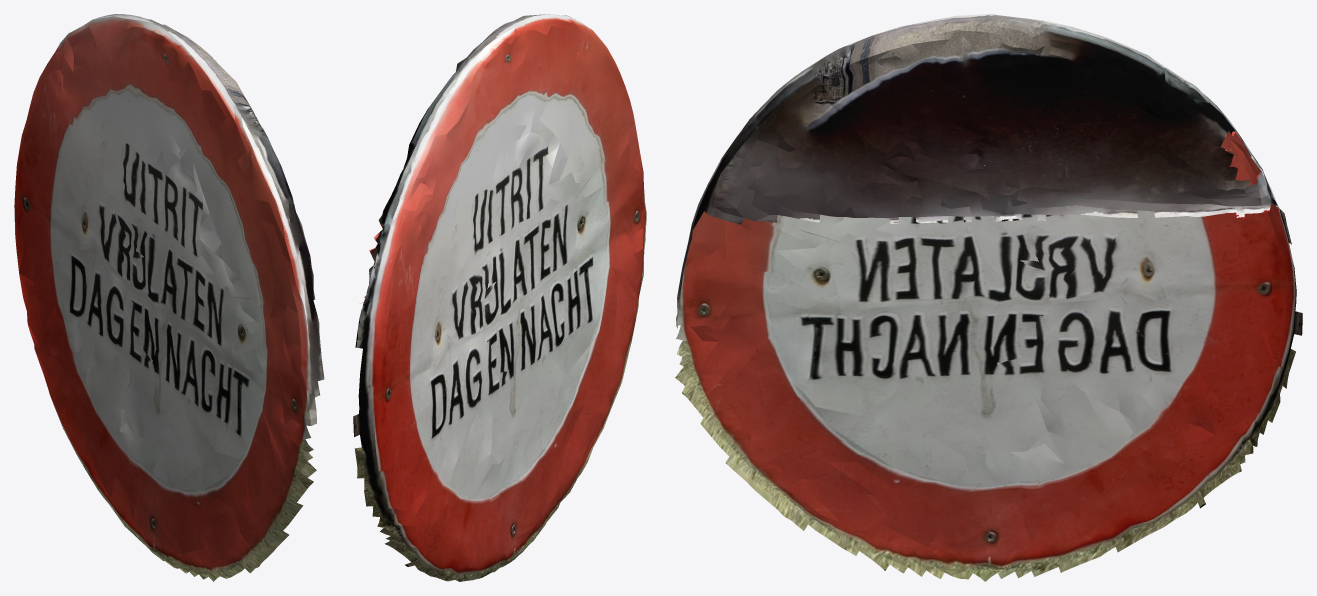
File: S024_ClearSign.glb
3 views of the same model, side by side, from view 1: azimuth 30°, elevation 25°; view 2: azimuth 150°, elevation 25°; view 3: azimuth 270°, elevation 25° (orthographic). The views are drawn at different scales.
Parts seen in each view (by area): view 1: S024_RETOPO; view 2: S024_RETOPO; view 3: S024_RETOPO.
Boxes of the visible parts, x1,y1,x2,y2 form: S024_RETOPO: (14,14,324,581); S024_RETOPO: (353,14,646,581); S024_RETOPO: (675,14,1302,581).
Size of the model in its own units: 0.1975 by 2.3 by 2.29.
1 material, 1 textured.
